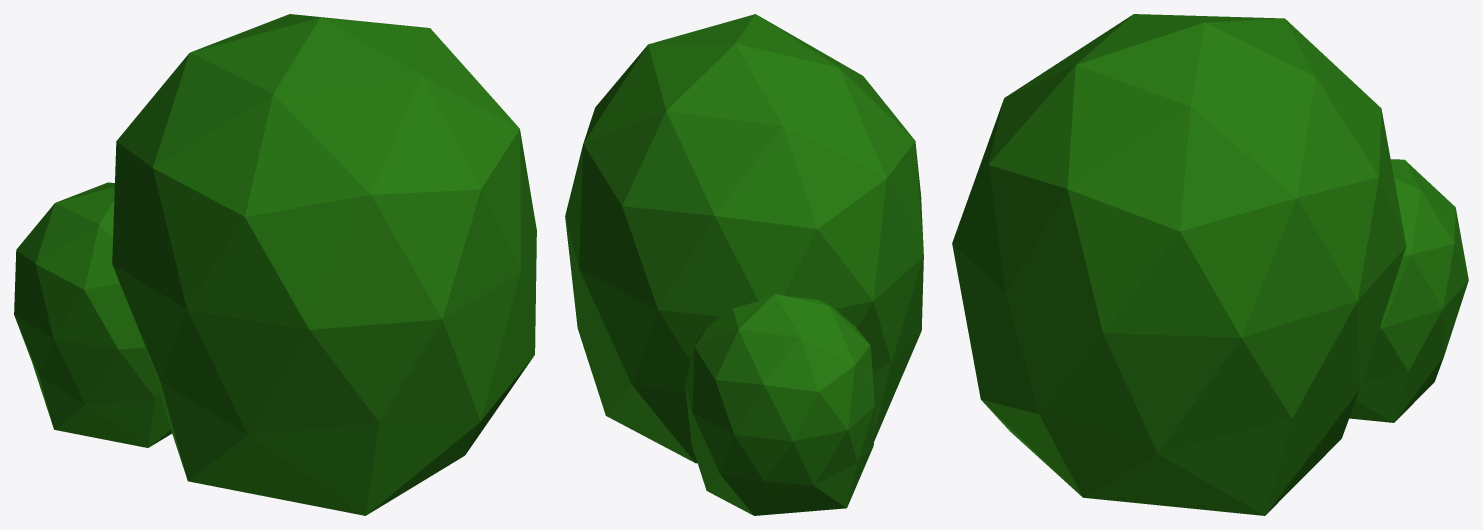
File: Bush.fbx
The picture shows the model from 3 angles, left to right: view 1: azimuth 30°, elevation 25°; view 2: azimuth 150°, elevation 25°; view 3: azimuth 270°, elevation 25°; orthographic projection. The views are drawn at different scales.
Parts seen in each view (by area): view 1: Bush1_LOD0; view 2: Bush1_LOD0; view 3: Bush1_LOD0.
Part boxes in pixels (x1,y1,x2,y2): Bush1_LOD0: (14,14,536,515); Bush1_LOD0: (565,14,923,515); Bush1_LOD0: (952,14,1468,515).
Size of what is drawn, in the model's own units: 213 by 222 by 237.
